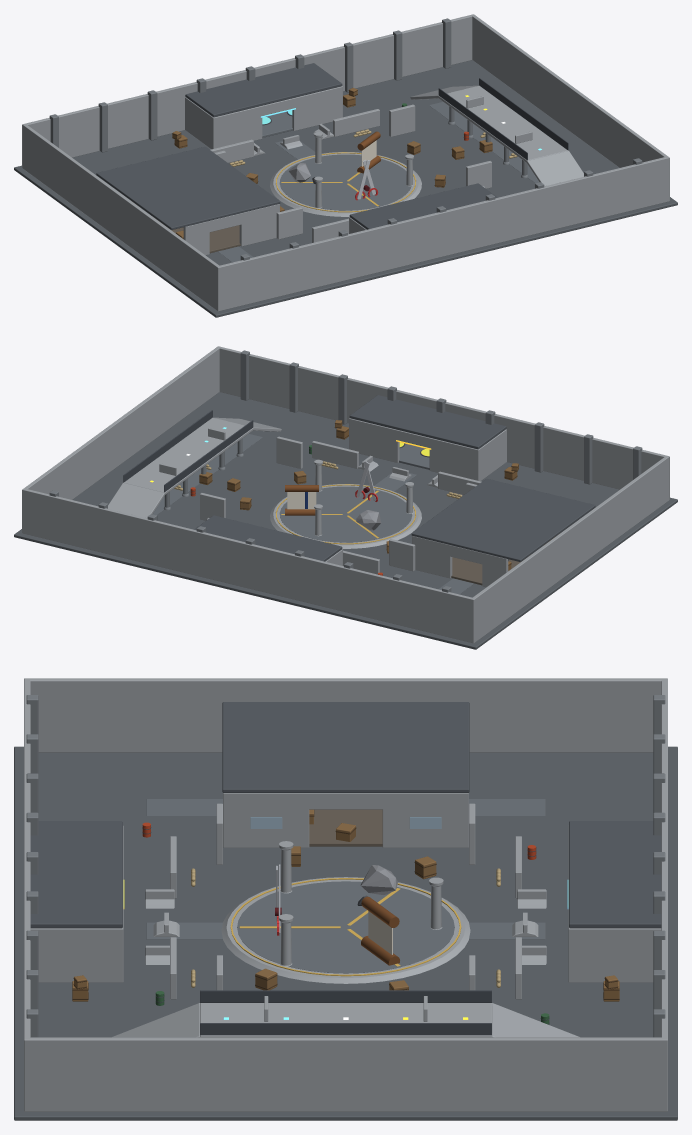
The model's file is rps_arena.glb.
3 renders of one model, top to bottom at view 1: azimuth 30°, elevation 25°; view 2: azimuth 150°, elevation 25°; view 3: azimuth 270°, elevation 25°, orthographic. The views are drawn at different scales.
Visible parts, largest first — view 1: ground, wall_south, wall_north, wall_west, warehouse_roof, wall_east, plaza_inlay, spawn_B_roof, bridge_deck, spawn_A_roof, spawn_B_front_R, spawn_B_front_L (+18 smaller); view 2: ground, wall_north, wall_south, wall_west, warehouse_roof, wall_east, plaza_inlay, spawn_A_roof, bridge_deck, spawn_B_roof, spawn_A_front_R, spawn_A_front_L (+19 smaller); view 3: ground, wall_east, wall_west, warehouse_roof, plaza_inlay, spawn_A_roof, spawn_B_roof, bridge_deck, wh_east_1, wh_east_2, spawn_A_side_R, spawn_B_side_R (+14 smaller).
Boxes of the visible parts, x1,y1,x2,y2 form: ground: (14, 60, 677, 317); wall_south: (216, 156, 669, 311); wall_north: (22, 14, 474, 168); wall_west: (22, 124, 220, 310); warehouse_roof: (96, 146, 280, 229); wall_east: (472, 14, 668, 201); plaza_inlay: (279, 154, 411, 210); spawn_B_roof: (185, 63, 342, 117); bridge_deck: (438, 85, 568, 162); spawn_A_roof: (349, 183, 497, 229); spawn_B_front_R: (292, 86, 342, 130); spawn_B_front_L: (212, 106, 262, 148); ground: (14, 392, 677, 649); wall_north: (22, 488, 475, 643); wall_south: (217, 346, 668, 489); wall_west: (471, 455, 669, 642); warehouse_roof: (411, 478, 595, 561); wall_east: (22, 346, 219, 533); plaza_inlay: (279, 486, 412, 542); spawn_A_roof: (349, 395, 506, 449); bridge_deck: (123, 417, 253, 494); spawn_B_roof: (194, 515, 342, 561); spawn_A_front_R: (349, 418, 399, 462); spawn_A_front_L: (429, 438, 478, 480); ground: (14, 746, 677, 1120); wall_east: (24, 1037, 667, 1111); wall_west: (25, 678, 667, 752); warehouse_roof: (222, 702, 469, 792); plaza_inlay: (237, 881, 454, 973); spawn_A_roof: (30, 821, 122, 928); spawn_B_roof: (569, 821, 661, 928); bridge_deck: (200, 1003, 491, 1037); wh_east_1: (382, 793, 468, 847); wh_east_2: (223, 793, 309, 847); spawn_A_side_R: (30, 927, 123, 982); spawn_B_side_R: (568, 927, 661, 982).
Size of the model in its own units: 66 by 6.8 by 50.
